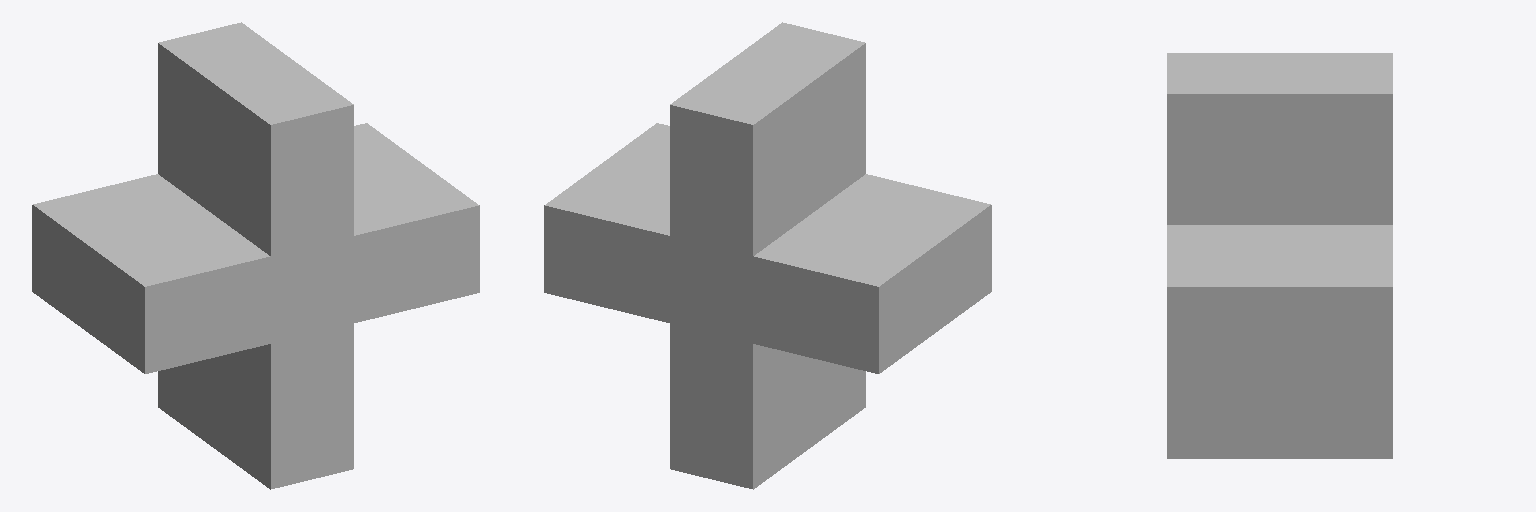
File: Health.obj
3 renders of one model, left to right at view 1: azimuth 30°, elevation 25°; view 2: azimuth 150°, elevation 25°; view 3: azimuth 270°, elevation 25°, orthographic.
Parts seen in each view (by area): view 1: Health; view 2: Health; view 3: Health.
Part boxes in pixels (x1,y1,x2,y2): Health: (32, 22, 479, 489); Health: (544, 22, 991, 489); Health: (1167, 53, 1392, 458).
Size of the model in its own units: 24 by 25 by 14.